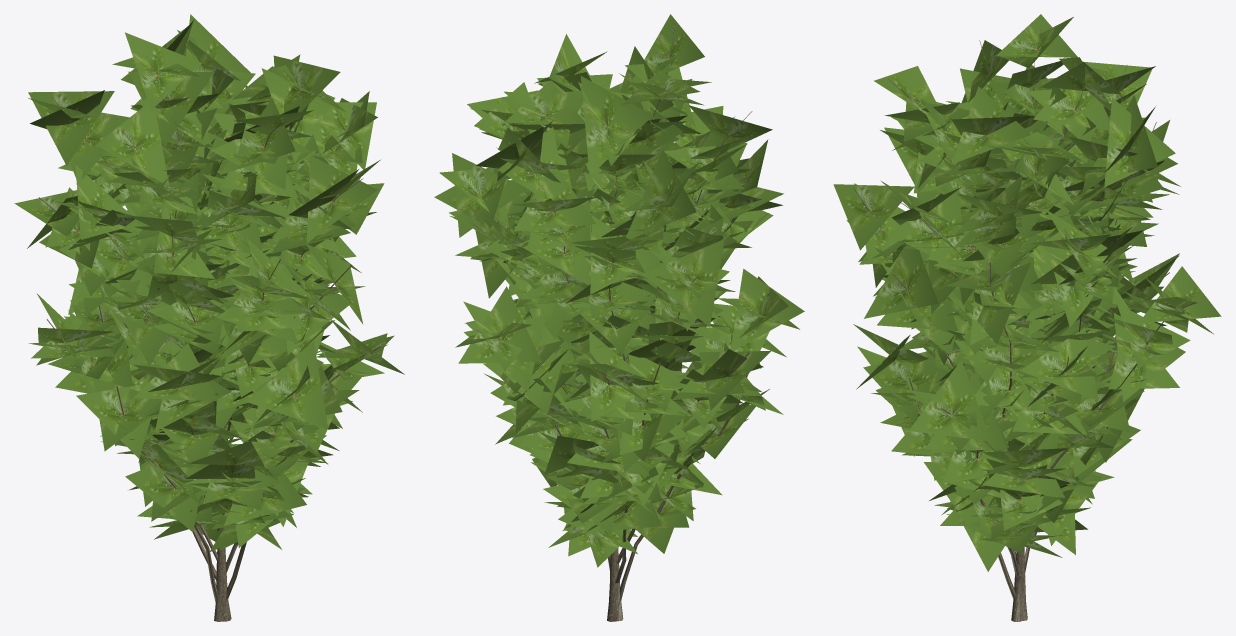
File: Ligustrum_Ovalifolium_Spring_Adult.glb
3 views of the same model, side by side, from view 1: azimuth 30°, elevation 25°; view 2: azimuth 150°, elevation 25°; view 3: azimuth 270°, elevation 25° (orthographic). The views are drawn at different scales.
Parts seen in each view (by area): view 1: Ligustrum_Ovalifolium_Spring_Adult__LOD3; view 2: Ligustrum_Ovalifolium_Spring_Adult__LOD3; view 3: Ligustrum_Ovalifolium_Spring_Adult__LOD3.
Boxes of the visible parts, x1,y1,x2,y2 form: Ligustrum_Ovalifolium_Spring_Adult__LOD3: (14, 14, 404, 621); Ligustrum_Ovalifolium_Spring_Adult__LOD3: (434, 14, 804, 621); Ligustrum_Ovalifolium_Spring_Adult__LOD3: (833, 14, 1221, 621).
Size of the model in its own units: 1.59 by 2.74 by 1.69.
Materials: 2 (2 with a texture image).
